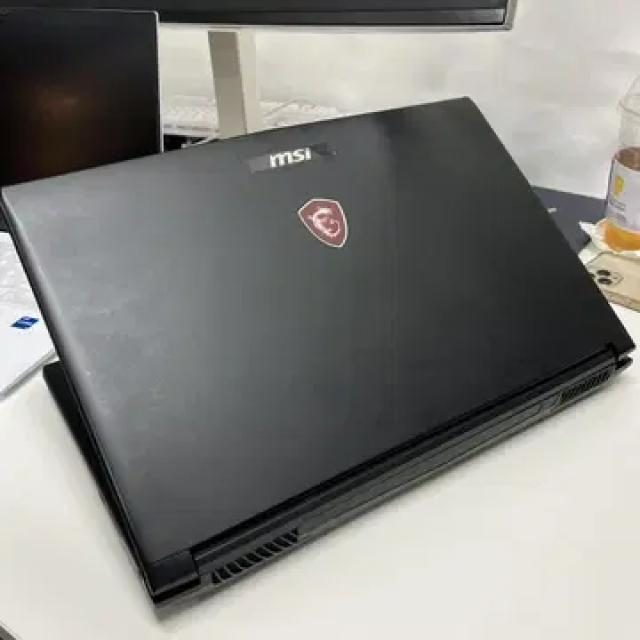laptop: (0, 94, 635, 620)
